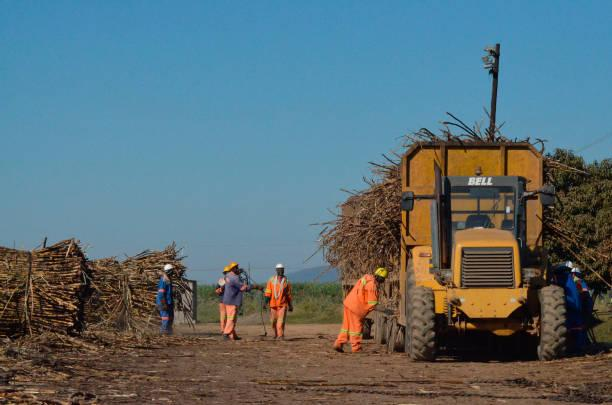capacete: (373, 266, 388, 282), (270, 263, 288, 269), (229, 258, 238, 270), (165, 262, 173, 272)
pessoa: (334, 265, 377, 352), (263, 262, 294, 341), (221, 264, 248, 341), (155, 260, 178, 341)
